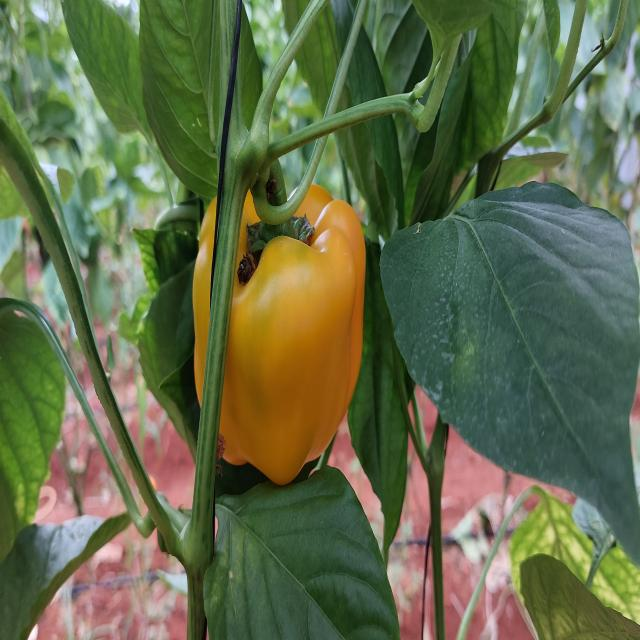Yellow-Ready-to-Harvest: (190, 171, 374, 489)
